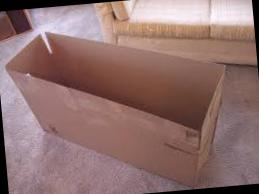cardboard: (0, 8, 251, 194)
